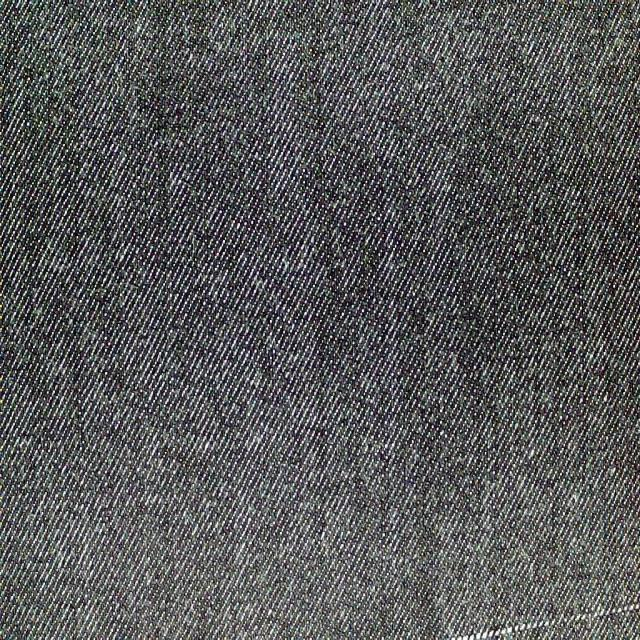pulled_or_thick_thread: (437, 600, 640, 640)
